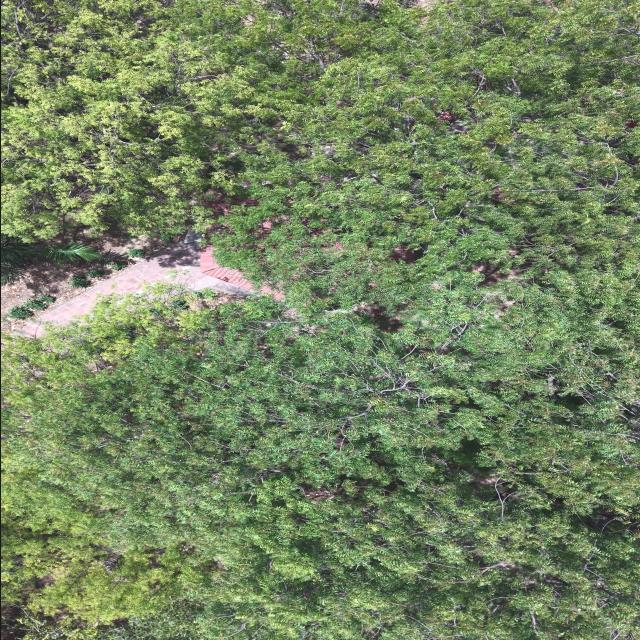DRY_AREA: (19, 241, 251, 336), (1, 226, 170, 332)
VEGETATION_TREE: (1, 0, 639, 639), (3, 291, 639, 639), (1, 0, 638, 237), (217, 0, 638, 342), (1, 234, 102, 284), (1, 234, 42, 284), (8, 293, 55, 318), (44, 242, 102, 262), (7, 305, 33, 318), (69, 275, 91, 287), (24, 299, 48, 309), (106, 260, 127, 270), (195, 288, 216, 298), (36, 293, 55, 303), (128, 248, 145, 257), (86, 269, 104, 277), (159, 232, 173, 241)
